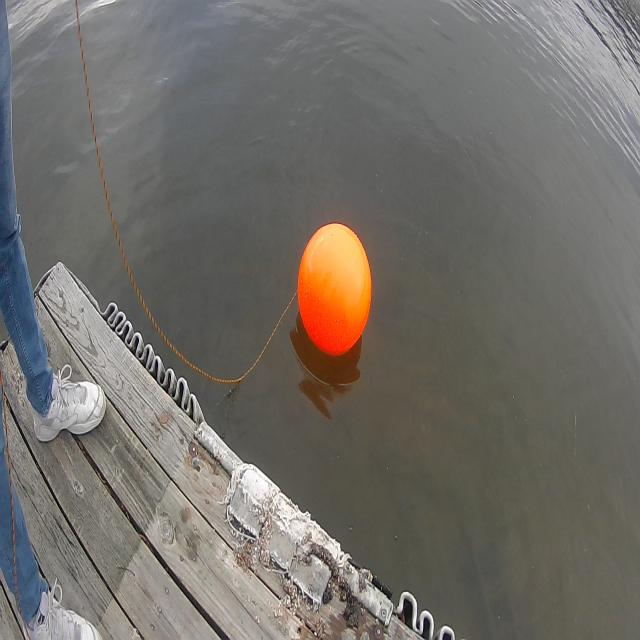Buoy: (293, 212, 378, 368)
